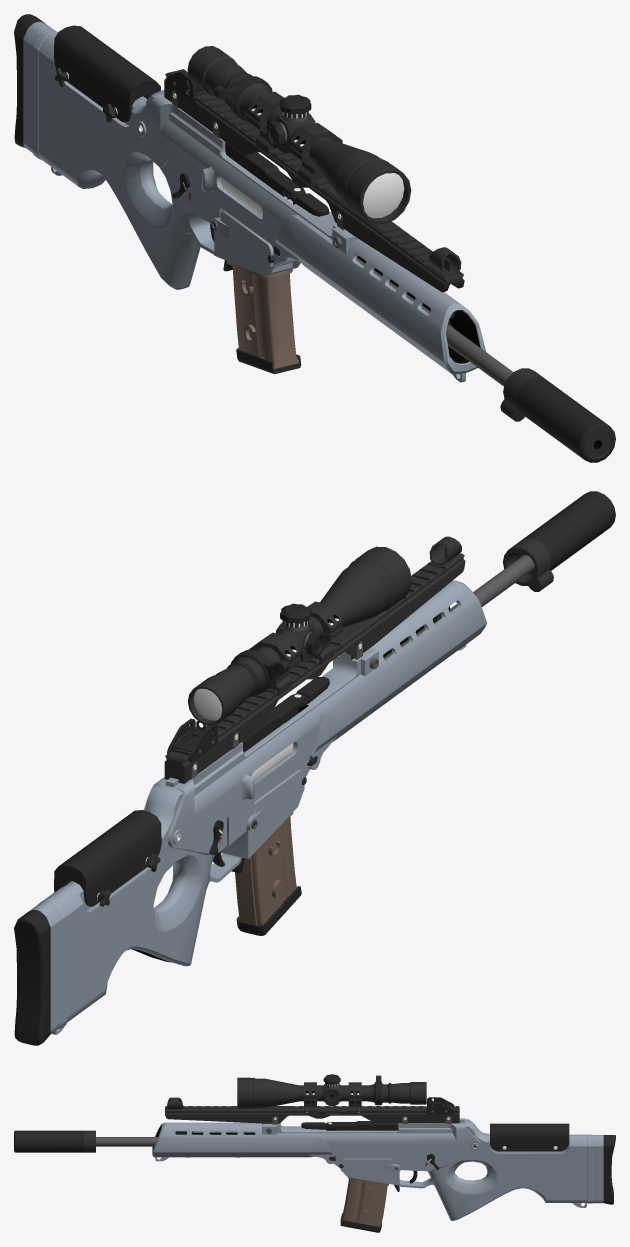
File: silah1.glb
The picture shows the model from 3 angles, top to bottom: view 1: azimuth 30°, elevation 25°; view 2: azimuth 150°, elevation 25°; view 3: azimuth 270°, elevation 25°; orthographic projection. The views are drawn at different scales.
Parts seen in each view (by area): view 1: base, optic, mag, suppressor, slide, sight; view 2: base, optic, mag, suppressor, sight, slide; view 3: base, optic, mag, suppressor, sight, slide.
Boxes of the visible parts, x1=… form: base: x1=14, y1=14, x2=513, y2=386; optic: x1=187, y1=46, x2=411, y2=224; mag: x1=226, y1=195, x2=301, y2=374; suppressor: x1=500, y1=368, x2=615, y2=462; slide: x1=220, y1=142, x2=305, y2=216; sight: x1=166, y1=71, x2=461, y2=275; base: x1=14, y1=553, x2=534, y2=1045; optic: x1=188, y1=546, x2=411, y2=725; mag: x1=235, y1=761, x2=301, y2=935; suppressor: x1=503, y1=491, x2=615, y2=591; sight: x1=167, y1=536, x2=461, y2=762; slide: x1=242, y1=693, x2=305, y2=780; base: x1=96, y1=1106, x2=615, y2=1220; optic: x1=237, y1=1074, x2=426, y2=1114; mag: x1=340, y1=1177, x2=388, y2=1232; suppressor: x1=14, y1=1130, x2=95, y2=1152; sight: x1=166, y1=1097, x2=454, y2=1114; slide: x1=325, y1=1121, x2=398, y2=1130.
Bounding box in the file's own units: 0.8765 × 3.98 × 14.22.
1 material, 1 textured.
